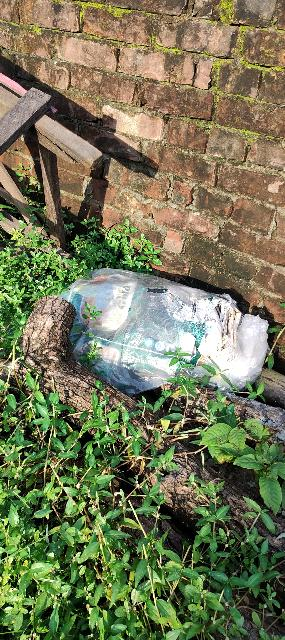polythene: (52, 262, 285, 387)
